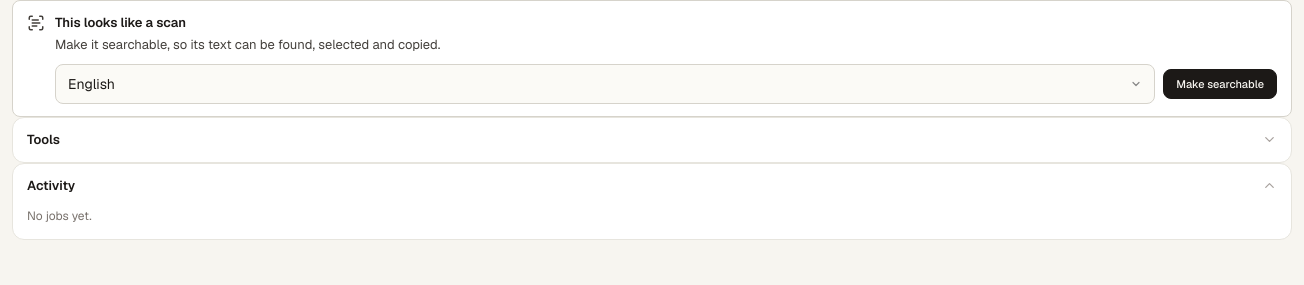
Test: Suggesting OCR for a scan › says why, when OCR could not be started
This screenshot has width=1304, height=285.
Step 1. Click the button "Make searchable" → [1220, 84], box [1163,69,1277,99]
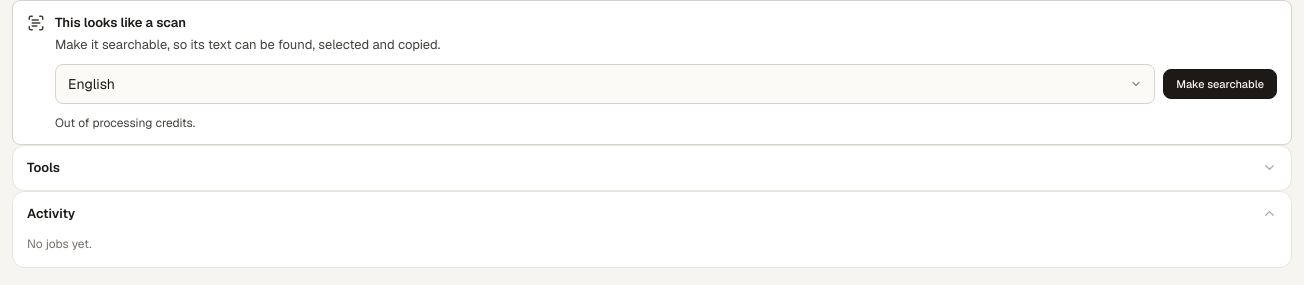
Now the text "Out of processing credits." is shown, box [55,115,195,131]
